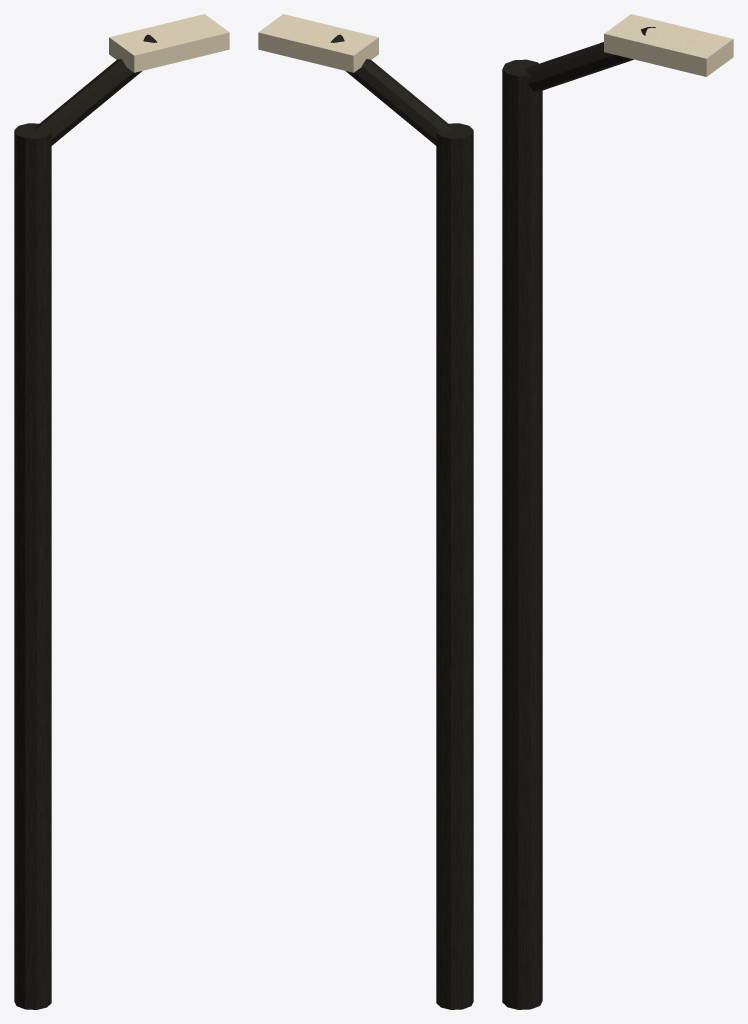
Rendered from street_lamp.glb.
The picture shows the model from 3 angles, left to right: view 1: azimuth 30°, elevation 25°; view 2: azimuth 150°, elevation 25°; view 3: azimuth 330°, elevation 25°; orthographic projection. The views are drawn at different scales.
Visible parts, largest first — view 1: StreetLamp; view 2: StreetLamp; view 3: StreetLamp.
Boxes of the visible parts, x1=… form: StreetLamp: x1=14, y1=14, x2=229, y2=1009; StreetLamp: x1=258, y1=14, x2=473, y2=1009; StreetLamp: x1=502, y1=14, x2=733, y2=1009.
Size of the model in its own units: 1.47 by 6.57 by 0.32.
1 material, 1 textured.
